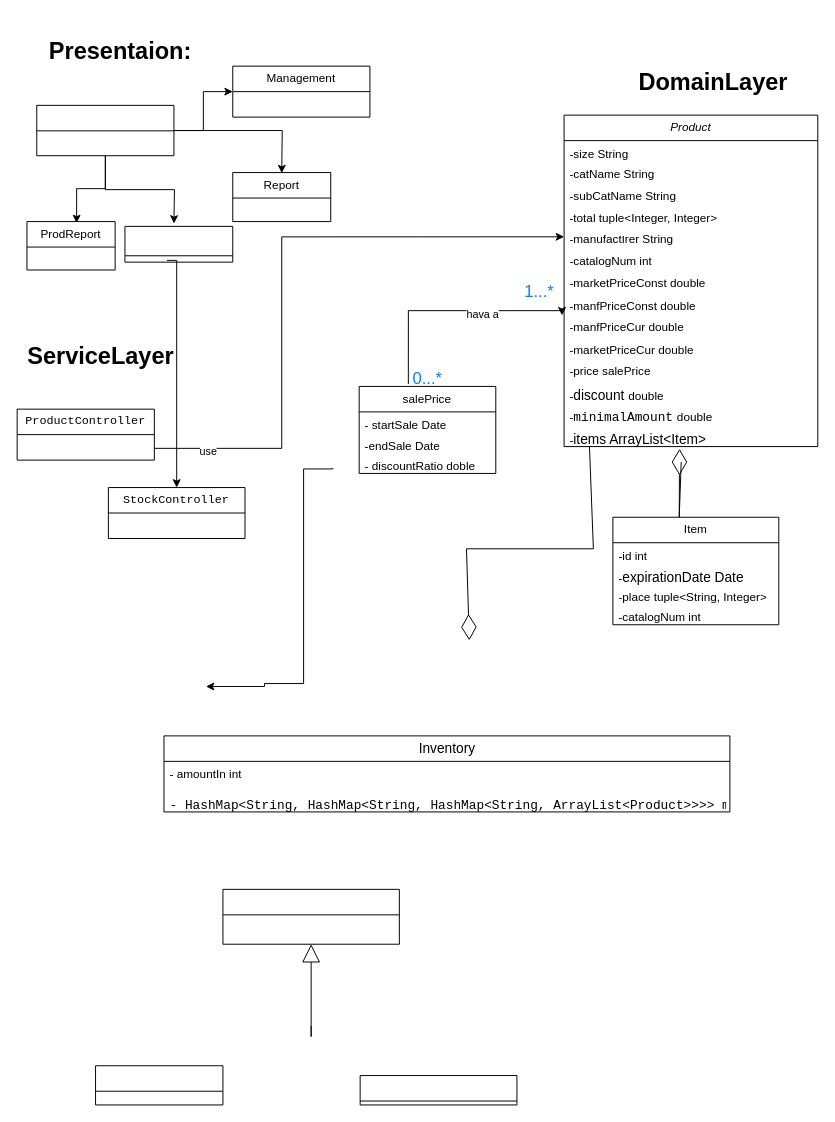
Image size: 835x1122. Some labels were removed from this diagram. The centre of each missing label's shape, as x and y in pixels:
"AReport" belongs at (310,916).
"Defective" belongs at (159,1085).
"Expirated" belongs at (438,1090).
"Main" belongs at (105,130).
"ReadFileAndStock" belongs at (178,243).
